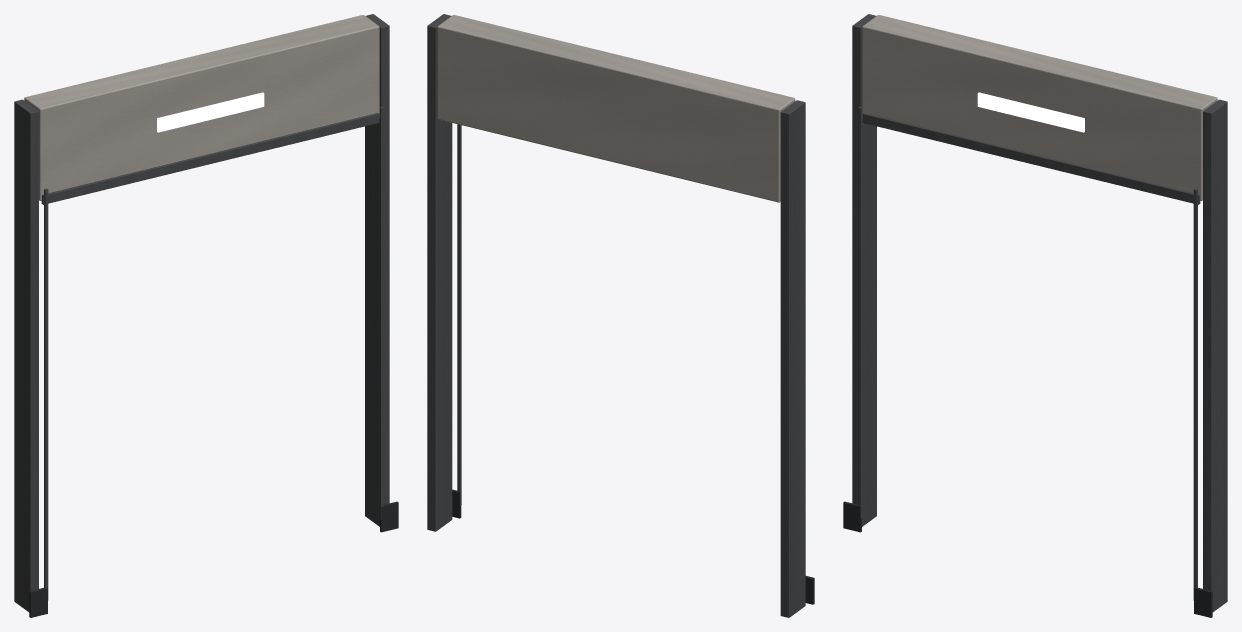
File: elevator_frame.glb
3 renders of one model, left to right at view 1: azimuth 30°, elevation 25°; view 2: azimuth 150°, elevation 25°; view 3: azimuth 330°, elevation 25°, orthographic.
Parts seen in each view (by area): view 1: lintel.001, jamb.008, jamb.009, header_trim.001, frame_inner_trim.005, frame_inner_trim.004, header_light.002; view 2: lintel.001, jamb.008, jamb.009, frame_inner_trim.005; view 3: lintel.001, jamb.009, jamb.008, header_trim.001, frame_inner_trim.004, frame_inner_trim.005, header_light.002.
Boxes of the visible parts, x1,y1,x2,y2 form: lintel.001: (24,15,379,200); jamb.008: (14,99,38,612); jamb.009: (365,14,389,526); header_trim.001: (41,113,379,204); frame_inner_trim.005: (379,106,383,519); frame_inner_trim.004: (44,188,48,600); header_light.002: (157,92,264,132); lintel.001: (437,15,795,202); jamb.008: (780,100,805,617); jamb.009: (427,14,452,531); frame_inner_trim.005: (457,124,461,505); lintel.001: (862,15,1217,200); jamb.009: (1203,99,1227,612); jamb.008: (852,14,876,526); header_trim.001: (862,113,1200,204); frame_inner_trim.004: (858,106,862,519); frame_inner_trim.005: (1193,188,1197,600); header_light.002: (977,92,1084,132).
Size of the model in its own units: 2.08 by 2.71 by 0.2055.
Materials: 4 (3 with a texture image).
